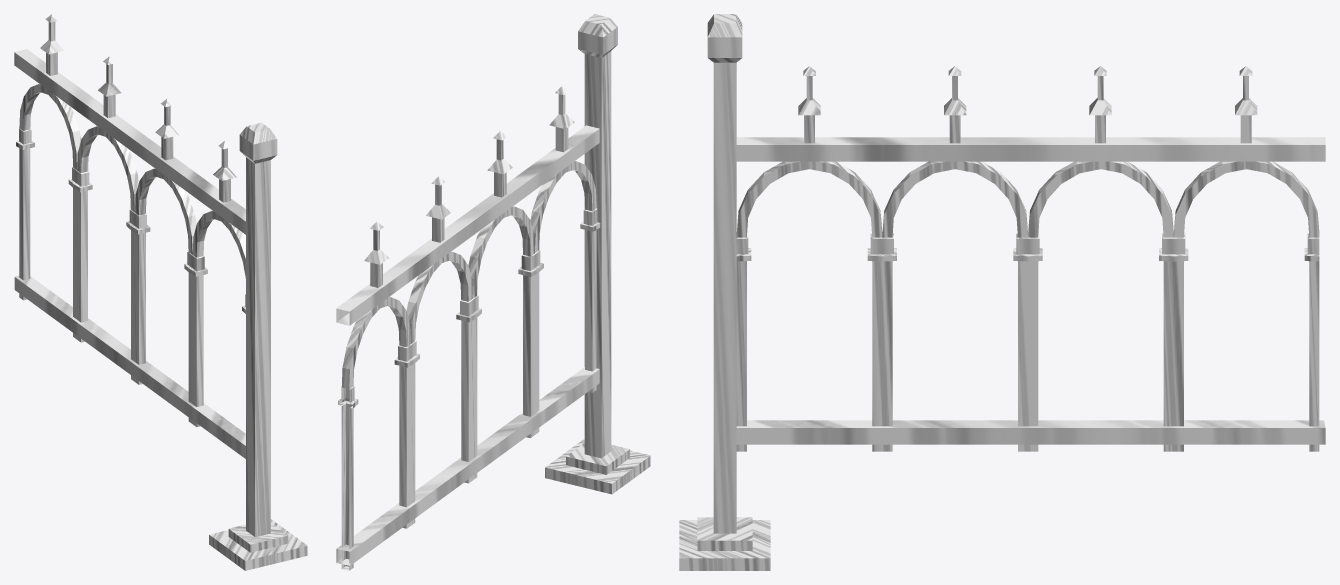
Rendered from ogrodzenie.fbx.
The picture shows the model from 3 angles, left to right: view 1: azimuth 30°, elevation 25°; view 2: azimuth 150°, elevation 25°; view 3: azimuth 270°, elevation 25°; orthographic projection. The views are drawn at different scales.
Parts seen in each view (by area): view 1: ogrodzenie; view 2: ogrodzenie; view 3: ogrodzenie.
Part boxes in pixels (box(x1,y1,x2,y2)): ogrodzenie: box(14, 14, 307, 570); ogrodzenie: box(336, 14, 650, 570); ogrodzenie: box(679, 14, 1325, 570).
Size of the model in its own units: 79.22 by 511 by 561.
